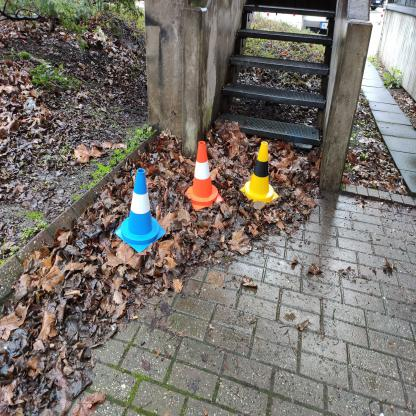Cones_small_blue: (111, 164, 175, 257)
Cones_small_orange: (179, 132, 231, 216)
Cones_small_yellow: (237, 131, 283, 214)
